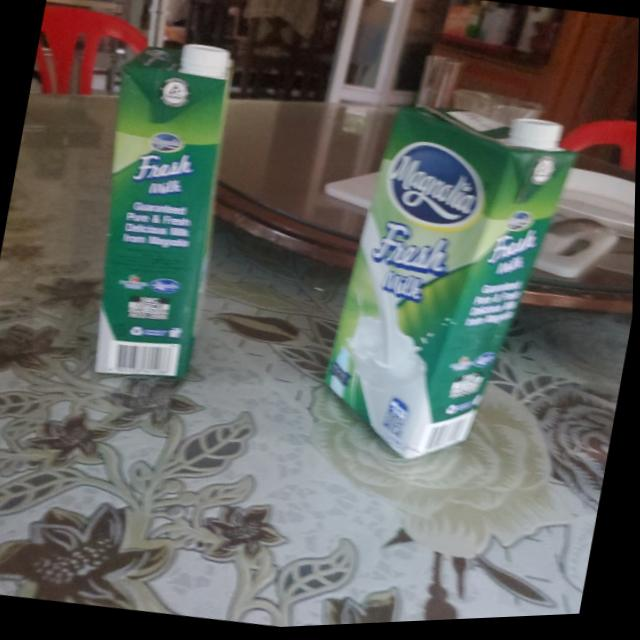milk: (313, 95, 581, 483), (69, 36, 251, 396)
